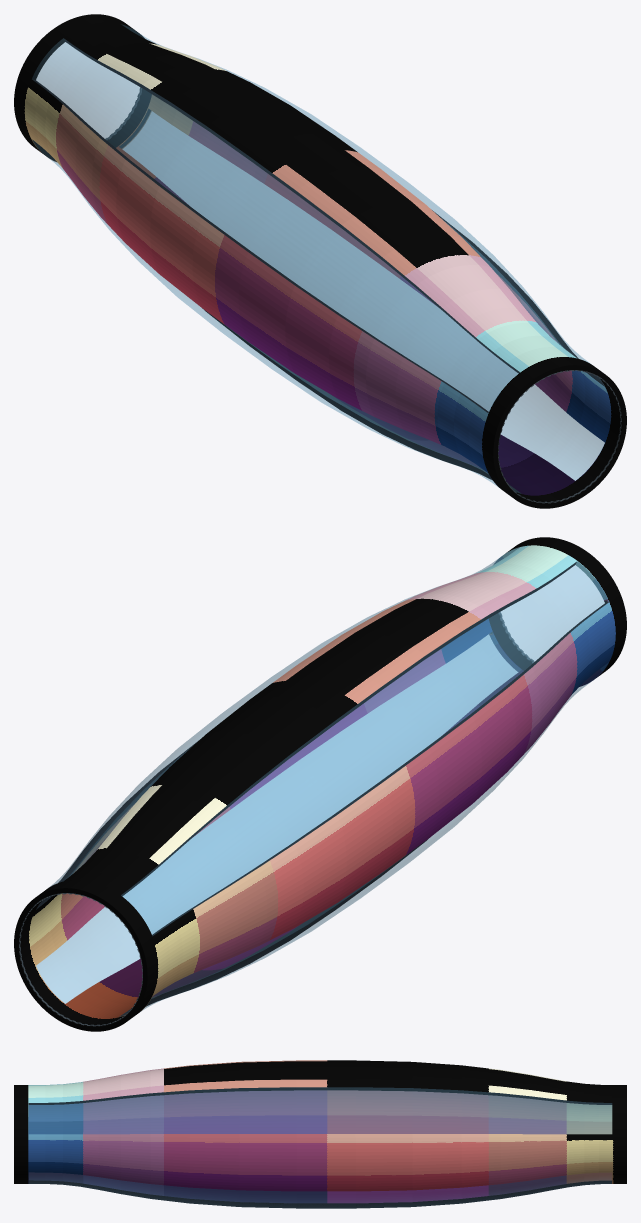
The model's file is LD50-Pipe-200m-Enlarged-01.glb.
The picture shows the model from 3 angles, top to bottom: view 1: azimuth 30°, elevation 25°; view 2: azimuth 150°, elevation 25°; view 3: azimuth 270°, elevation 25°; orthographic projection. The views are drawn at different scales.
Visible parts, largest first — view 1: Pipe-200m-Enlarged-01, Pipe-200m-Enlarged-01-Joint; view 2: Pipe-200m-Enlarged-01, Pipe-200m-Enlarged-01-Joint; view 3: Pipe-200m-Enlarged-01.
Boxes of the visible parts, <box> form: Pipe-200m-Enlarged-01: <box>14,14,626,508</box>; Pipe-200m-Enlarged-01-Joint: <box>38,87,621,503</box>; Pipe-200m-Enlarged-01: <box>14,537,626,1031</box>; Pipe-200m-Enlarged-01-Joint: <box>19,612,534,1026</box>; Pipe-200m-Enlarged-01: <box>14,1060,626,1208</box>.
Bounding box in the file's own units: 48.3 × 48.3 × 200.
2 materials, 2 textured.
